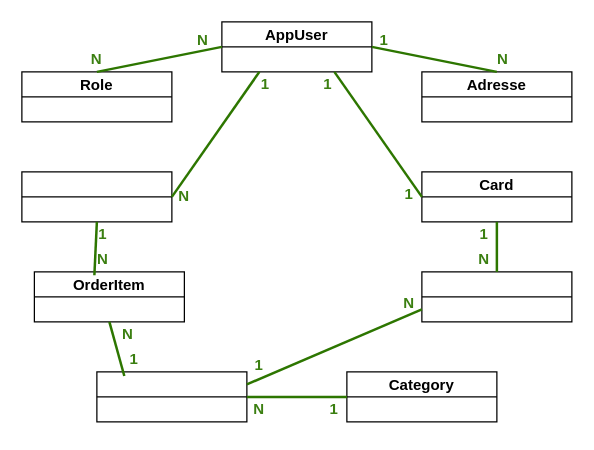
This 594x450 diagram has some shape labels left out. Each missing label, with the centre of its shape:
CardItem: (496,296)
Order: (96,196)
Product: (171,396)
